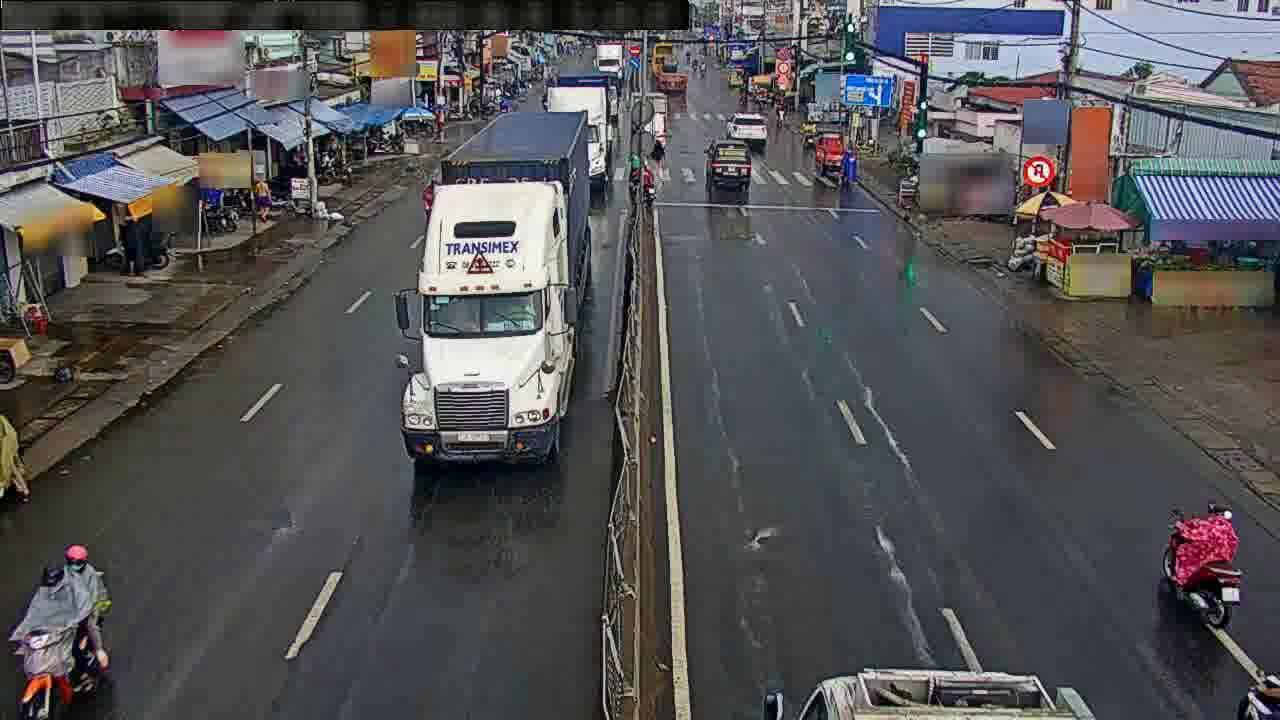14: (702, 137, 757, 191)
8: (414, 108, 582, 463)
container: (721, 110, 768, 146)
motorbike: (6, 552, 121, 715), (1156, 494, 1245, 632)
